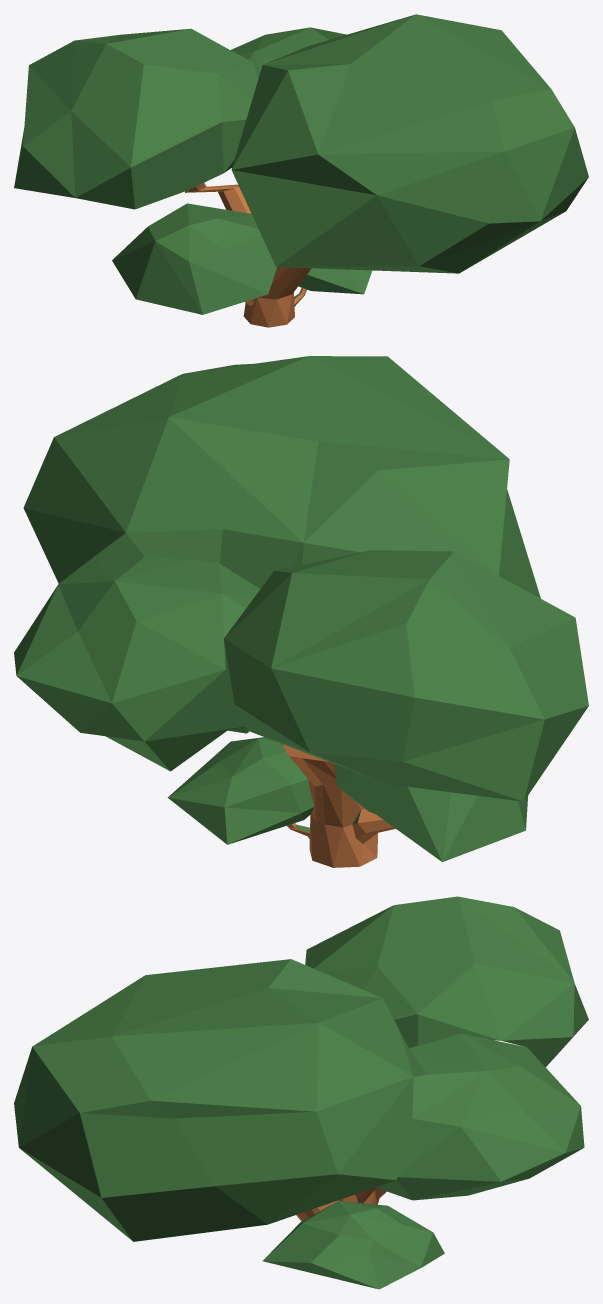
Rendered from bush02.gltf.
3 renders of one model, top to bottom at view 1: azimuth 30°, elevation 25°; view 2: azimuth 150°, elevation 25°; view 3: azimuth 270°, elevation 25°, orthographic. The views are drawn at different scales.
Visible parts, largest first — view 1: Cylinder; view 2: Cylinder; view 3: Cylinder.
Boxes of the visible parts, x1,y1,x2,y2 form: Cylinder: [14, 14, 588, 327]; Cylinder: [14, 356, 588, 867]; Cylinder: [14, 896, 588, 1289].
Bounding box in the file's own units: 1.24 × 0.76 × 1.24.
1 material, 1 textured.
